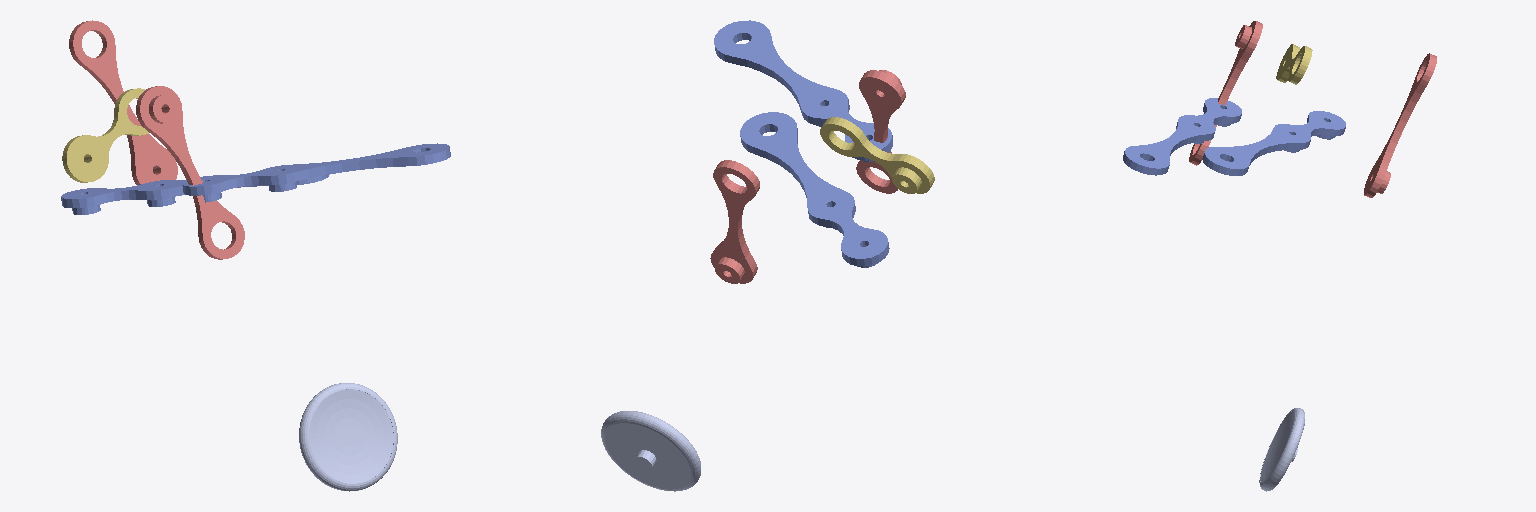
The robot description file, URDF, robot "two_wheel_bot_urdf3":
<?xml version="1.0" encoding="utf-8"?>
<!-- This URDF was automatically created by SolidWorks to URDF Exporter! Originally created by [author] ([email redacted]) 
     Commit Version: 1.6.0-4-g7f85cfe  Build Version: 1.6.7995.38578
     For more information, please see http://wiki.ros.org/sw_urdf_exporter -->
<robot
  name="two_wheel_bot_urdf3">
  <link
    name="base_link">
    <inertial>
      <origin
        xyz="2.14335328662538E-06 0.00342348567006379 0.00381617057001103"
        rpy="0 0 0" />
      <mass
        value="5.2298658429766" />
      <inertia
        ixx="0.025489005982237"
        ixy="5.21058705317494E-07"
        ixz="4.66611982919143E-08"
        iyy="0.0217210539398496"
        iyz="0.00138741262174413"
        izz="0.0300096457219979" />
    </inertial>
    <visual>
      <origin
        xyz="0 0 0"
        rpy="0 0 0" />
      <geometry>
        <mesh
          filename="package://two_wheel_bot_urdf3/meshes/base_link.STL" />
      </geometry>
      <material
        name="">
        <color
          rgba="1 1 1 1" />
      </material>
    </visual>
    <collision>
      <origin
        xyz="0 0 0"
        rpy="0 0 0" />
      <geometry>
        <mesh
          filename="package://two_wheel_bot_urdf3/meshes/base_link.STL" />
      </geometry>
    </collision>
  </link>
  <link
    name="link1L">
    <inertial>
      <origin
        xyz="0.0412490586912434 -2.05379713135079E-17 -0.0022174412485645"
        rpy="0 0 0" />
      <mass
        value="0.0920897104333794" />
      <inertia
        ixx="3.29488166015826E-05"
        ixy="1.60936259978317E-19"
        ixz="-8.42320308387378E-06"
        iyy="0.000327581916070124"
        iyz="9.00189969586249E-21"
        izz="0.00035581745234253" />
    </inertial>
    <visual>
      <origin
        xyz="0 0 0"
        rpy="0 0 0" />
      <geometry>
        <mesh
          filename="package://two_wheel_bot_urdf3/meshes/link1L.STL" />
      </geometry>
      <material
        name="">
        <color
          rgba="0.647058823529412 0.854901960784314 0.533333333333333 1" />
      </material>
    </visual>
    <collision>
      <origin
        xyz="0 0 0"
        rpy="0 0 0" />
      <geometry>
        <mesh
          filename="package://two_wheel_bot_urdf3/meshes/link1L.STL" />
      </geometry>
    </collision>
  </link>
  <joint
    name="joint1L"
    type="revolute">
    <origin
      xyz="-0.105 0 0"
      rpy="1.5708 1.3039 -1.5708" />
    <parent
      link="base_link" />
    <child
      link="link1L" />
    <axis
      xyz="0 0 1" />
    <limit
      lower="0"
      upper="0"
      effort="0"
      velocity="0" />
  </joint>
  <link
    name="link2L">
    <inertial>
      <origin
        xyz="0.0280502819653609 -2.41626931216045E-18 0.00850628524567011"
        rpy="0 0 0" />
      <mass
        value="0.0420641577581413" />
      <inertia
        ixx="7.11107320893793E-06"
        ixy="6.56450534122083E-21"
        ixz="-1.76245119507E-06"
        iyy="6.17851177620997E-05"
        iyz="1.91908843498361E-23"
        izz="6.71261903455831E-05" />
    </inertial>
    <visual>
      <origin
        xyz="0 0 0"
        rpy="0 0 0" />
      <geometry>
        <mesh
          filename="package://two_wheel_bot_urdf3/meshes/link2L.STL" />
      </geometry>
      <material
        name="">
        <color
          rgba="0.854901960784314 0.803921568627451 0.529411764705882 1" />
      </material>
    </visual>
    <collision>
      <origin
        xyz="0 0 0"
        rpy="0 0 0" />
      <geometry>
        <mesh
          filename="package://two_wheel_bot_urdf3/meshes/link2L.STL" />
      </geometry>
    </collision>
  </link>
  <joint
    name="joint2L"
    type="revolute">
    <origin
      xyz="0 0 0"
      rpy="0 0 1.7555" />
    <parent
      link="link1L" />
    <child
      link="link2L" />
    <axis
      xyz="0 0 1" />
    <limit
      lower="0"
      upper="0"
      effort="0"
      velocity="0" />
  </joint>
  <link
    name="link3L">
    <inertial>
      <origin
        xyz="-0.0106862513365372 -0.0571823025304896 -0.00887815058461652"
        rpy="0 0 0" />
      <mass
        value="0.0560073858489449" />
      <inertia
        ixx="0.000218764528266537"
        ixy="-3.93869721743533E-05"
        ixz="-6.71436973865583E-07"
        iyy="1.53648605332619E-05"
        iyz="-3.59287003090283E-06"
        izz="0.000232080271062819" />
    </inertial>
    <visual>
      <origin
        xyz="0 0 0"
        rpy="0 0 0" />
      <geometry>
        <mesh
          filename="package://two_wheel_bot_urdf3/meshes/link3L.STL" />
      </geometry>
      <material
        name="">
        <color
          rgba="0.862745098039216 0.549019607843137 0.545098039215686 1" />
      </material>
    </visual>
    <collision>
      <origin
        xyz="0 0 0"
        rpy="0 0 0" />
      <geometry>
        <mesh
          filename="package://two_wheel_bot_urdf3/meshes/link3L.STL" />
      </geometry>
    </collision>
  </link>
  <joint
    name="joint3L"
    type="revolute">
    <origin
      xyz="0.08 0 0.01"
      rpy="0 0 0" />
    <parent
      link="link2L" />
    <child
      link="link3L" />
    <axis
      xyz="0 0 -1" />
    <limit
      lower="0"
      upper="0"
      effort="0"
      velocity="0" />
  </joint>
  <link
    name="link4L">
    <inertial>
      <origin
        xyz="0.0203083925778099 -0.108670534850872 0.00878355121424736"
        rpy="0 0 0" />
      <mass
        value="0.103303737580571" />
      <inertia
        ixx="0.000773569071719839"
        ixy="0.000141436809479321"
        ixz="-1.62865032492975E-06"
        iyy="4.31701995748469E-05"
        iyz="8.71493404596558E-06"
        izz="0.00081280999513764" />
    </inertial>
    <visual>
      <origin
        xyz="0 0 0"
        rpy="0 0 0" />
      <geometry>
        <mesh
          filename="package://two_wheel_bot_urdf3/meshes/link4L.STL" />
      </geometry>
      <material
        name="">
        <color
          rgba="0.545098039215686 0.615686274509804 0.858823529411765 1" />
      </material>
    </visual>
    <collision>
      <origin
        xyz="0 0 0"
        rpy="0 0 0" />
      <geometry>
        <mesh
          filename="package://two_wheel_bot_urdf3/meshes/link4L.STL" />
      </geometry>
    </collision>
  </link>
  <joint
    name="joint4L"
    type="revolute">
    <origin
      xyz="-0.027555 -0.14745 -0.01"
      rpy="0 0 -1.7555" />
    <parent
      link="link3L" />
    <child
      link="link4L" />
    <axis
      xyz="0 0 1" />
    <limit
      lower="0"
      upper="0"
      effort="0"
      velocity="0" />
  </joint>
  <link
    name="wheelL">
    <inertial>
      <origin
        xyz="-6.10622663543836E-16 7.21644966006352E-16 0.0111042006258997"
        rpy="0 0 0" />
      <mass
        value="0.126219698224412" />
      <inertia
        ixx="0.000106473363883809"
        ixy="6.7762635780344E-21"
        ixz="-2.48860382094019E-20"
        iyy="0.000106473363883809"
        iyz="-5.86012409769799E-21"
        izz="0.000208789081658998" />
    </inertial>
    <visual>
      <origin
        xyz="0 0 0"
        rpy="0 0 0" />
      <geometry>
        <mesh
          filename="package://two_wheel_bot_urdf3/meshes/wheelL.STL" />
      </geometry>
      <material
        name="">
        <color
          rgba="0.792156862745098 0.819607843137255 0.933333333333333 1" />
      </material>
    </visual>
    <collision>
      <origin
        xyz="0 0 0"
        rpy="0 0 0" />
      <geometry>
        <mesh
          filename="package://two_wheel_bot_urdf3/meshes/wheelL.STL" />
      </geometry>
    </collision>
  </link>
  <joint
    name="wheeljointL"
    type="continuous">
    <origin
      xyz="0.042251 -0.22609 0.01"
      rpy="0 0 -1.386" />
    <parent
      link="link4L" />
    <child
      link="wheelL" />
    <axis
      xyz="0 0 1" />
  </joint>
  <link
    name="link4_1L">
    <inertial>
      <origin
        xyz="0.00561238240027584 -0.030031948362666 0.00878355121424738"
        rpy="0 0 0" />
      <mass
        value="0.103303737580571" />
      <inertia
        ixx="0.000773569071719824"
        ixy="0.000141436809479358"
        ixz="-1.62865032493019E-06"
        iyy="4.3170199574861E-05"
        iyz="8.7149340459655E-06"
        izz="0.00081280999513764" />
    </inertial>
    <visual>
      <origin
        xyz="0 0 0"
        rpy="0 0 0" />
      <geometry>
        <mesh
          filename="package://two_wheel_bot_urdf3/meshes/link4_1L.STL" />
      </geometry>
      <material
        name="">
        <color
          rgba="0.545098039215686 0.615686274509804 0.858823529411765 1" />
      </material>
    </visual>
    <collision>
      <origin
        xyz="0 0 0"
        rpy="0 0 0" />
      <geometry>
        <mesh
          filename="package://two_wheel_bot_urdf3/meshes/link4_1L.STL" />
      </geometry>
    </collision>
  </link>
  <joint
    name="joint4_1L"
    type="revolute">
    <origin
      xyz="0.15 0 0"
      rpy="0 0 0" />
    <parent
      link="link1L" />
    <child
      link="link4_1L" />
    <axis
      xyz="0 0 1" />
    <limit
      lower="0"
      upper="0"
      effort="0"
      velocity="0" />
  </joint>
  <link
    name="link1R">
    <inertial>
      <origin
        xyz="0.0412490586912434 -2.86247299409987E-17 -0.0022174412485645"
        rpy="0 0 0" />
      <mass
        value="0.0920897104333794" />
      <inertia
        ixx="3.29488166015826E-05"
        ixy="1.575481281893E-19"
        ixz="-8.4232030838738E-06"
        iyy="0.000327581916070124"
        iyz="4.00311882040484E-21"
        izz="0.00035581745234253" />
    </inertial>
    <visual>
      <origin
        xyz="0 0 0"
        rpy="0 0 0" />
      <geometry>
        <mesh
          filename="package://two_wheel_bot_urdf3/meshes/link1R.STL" />
      </geometry>
      <material
        name="">
        <color
          rgba="0.647058823529412 0.854901960784314 0.533333333333333 1" />
      </material>
    </visual>
    <collision>
      <origin
        xyz="0 0 0"
        rpy="0 0 0" />
      <geometry>
        <mesh
          filename="package://two_wheel_bot_urdf3/meshes/link1R.STL" />
      </geometry>
    </collision>
  </link>
  <joint
    name="joint1R"
    type="revolute">
    <origin
      xyz="0.105 0 0"
      rpy="-1.5708 1.3039 -1.5708" />
    <parent
      link="base_link" />
    <child
      link="link1R" />
    <axis
      xyz="0 0 1" />
    <limit
      lower="0"
      upper="0"
      effort="0"
      velocity="0" />
  </joint>
  <link
    name="link2R">
    <inertial>
      <origin
        xyz="0.0280502819653609 -8.26826764443447E-19 0.0085062852456701"
        rpy="0 0 0" />
      <mass
        value="0.0420641577581413" />
      <inertia
        ixx="7.11107320893793E-06"
        ixy="2.11758236813575E-22"
        ixz="-1.76245119506999E-06"
        iyy="6.17851177620997E-05"
        iyz="3.30824605547417E-22"
        izz="6.71261903455832E-05" />
    </inertial>
    <visual>
      <origin
        xyz="0 0 0"
        rpy="0 0 0" />
      <geometry>
        <mesh
          filename="package://two_wheel_bot_urdf3/meshes/link2R.STL" />
      </geometry>
      <material
        name="">
        <color
          rgba="0.854901960784314 0.803921568627451 0.529411764705882 1" />
      </material>
    </visual>
    <collision>
      <origin
        xyz="0 0 0"
        rpy="0 0 0" />
      <geometry>
        <mesh
          filename="package://two_wheel_bot_urdf3/meshes/link2R.STL" />
      </geometry>
    </collision>
  </link>
  <joint
    name="joint2R"
    type="revolute">
    <origin
      xyz="0 0 0"
      rpy="0 0 -1.7555" />
    <parent
      link="link1R" />
    <child
      link="link2R" />
    <axis
      xyz="0 0 1" />
    <limit
      lower="0"
      upper="0"
      effort="0"
      velocity="0" />
  </joint>
  <link
    name="link3R">
    <inertial>
      <origin
        xyz="-0.0106862513365432 0.0571823025304968 -0.00887815058461655"
        rpy="0 0 0" />
      <mass
        value="0.0560073858489449" />
      <inertia
        ixx="0.000218764528266529"
        ixy="3.9386972174374E-05"
        ixz="-6.71436973865969E-07"
        iyy="1.53648605332699E-05"
        iyz="3.59287003090279E-06"
        izz="0.000232080271062819" />
    </inertial>
    <visual>
      <origin
        xyz="0 0 0"
        rpy="0 0 0" />
      <geometry>
        <mesh
          filename="package://two_wheel_bot_urdf3/meshes/link3R.STL" />
      </geometry>
      <material
        name="">
        <color
          rgba="0.862745098039216 0.549019607843137 0.545098039215686 1" />
      </material>
    </visual>
    <collision>
      <origin
        xyz="0 0 0"
        rpy="0 0 0" />
      <geometry>
        <mesh
          filename="package://two_wheel_bot_urdf3/meshes/link3R.STL" />
      </geometry>
    </collision>
  </link>
  <joint
    name="joint3R"
    type="revolute">
    <origin
      xyz="0.08 0 0.01"
      rpy="0 0 0" />
    <parent
      link="link2R" />
    <child
      link="link3R" />
    <axis
      xyz="0 0 -1" />
    <limit
      lower="0"
      upper="0"
      effort="0"
      velocity="0" />
  </joint>
  <link
    name="link4R">
    <inertial>
      <origin
        xyz="0.0203083925778119 0.108670534850862 0.0087835512142474"
        rpy="0 0 0" />
      <mass
        value="0.103303737580571" />
      <inertia
        ixx="0.00077356907171982"
        ixy="-0.000141436809479367"
        ixz="-1.62865032493035E-06"
        iyy="4.31701995748645E-05"
        iyz="-8.71493404596562E-06"
        izz="0.00081280999513764" />
    </inertial>
    <visual>
      <origin
        xyz="0 0 0"
        rpy="0 0 0" />
      <geometry>
        <mesh
          filename="package://two_wheel_bot_urdf3/meshes/link4R.STL" />
      </geometry>
      <material
        name="">
        <color
          rgba="0.545098039215686 0.615686274509804 0.858823529411765 1" />
      </material>
    </visual>
    <collision>
      <origin
        xyz="0 0 0"
        rpy="0 0 0" />
      <geometry>
        <mesh
          filename="package://two_wheel_bot_urdf3/meshes/link4R.STL" />
      </geometry>
    </collision>
  </link>
  <joint
    name="joint4R"
    type="revolute">
    <origin
      xyz="-0.027555 0.14745 -0.01"
      rpy="0 0 1.7555" />
    <parent
      link="link3R" />
    <child
      link="link4R" />
    <axis
      xyz="0 0 1" />
    <limit
      lower="0"
      upper="0"
      effort="0"
      velocity="0" />
  </joint>
  <link
    name="wheelR">
    <inertial>
      <origin
        xyz="7.49400541621981E-16 8.88178419700125E-16 0.0111042006258996"
        rpy="0 0 0" />
      <mass
        value="0.126219698224412" />
      <inertia
        ixx="0.000106473363883807"
        ixy="0"
        ixz="2.50484313697451E-20"
        iyy="0.000106473363883807"
        iyz="2.64825220519381E-21"
        izz="0.000208789081658998" />
    </inertial>
    <visual>
      <origin
        xyz="0 0 0"
        rpy="0 0 0" />
      <geometry>
        <mesh
          filename="package://two_wheel_bot_urdf3/meshes/wheelR.STL" />
      </geometry>
      <material
        name="">
        <color
          rgba="0.792156862745098 0.819607843137255 0.933333333333333 1" />
      </material>
    </visual>
    <collision>
      <origin
        xyz="0 0 0"
        rpy="0 0 0" />
      <geometry>
        <mesh
          filename="package://two_wheel_bot_urdf3/meshes/wheelR.STL" />
      </geometry>
    </collision>
  </link>
  <joint
    name="wheeljointR"
    type="continuous">
    <origin
      xyz="0.042251 0.22609 0.01"
      rpy="0 0 1.386" />
    <parent
      link="link4R" />
    <child
      link="wheelR" />
    <axis
      xyz="0 0 1" />
  </joint>
  <link
    name="link4_1R">
    <inertial>
      <origin
        xyz="0.00561238240027687 0.0300319483626608 0.00878355121424738"
        rpy="0 0 0" />
      <mass
        value="0.103303737580571" />
      <inertia
        ixx="0.000773569071719815"
        ixy="-0.000141436809479382"
        ixz="-1.62865032493053E-06"
        iyy="4.31701995748703E-05"
        iyz="-8.71493404596559E-06"
        izz="0.00081280999513764" />
    </inertial>
    <visual>
      <origin
        xyz="0 0 0"
        rpy="0 0 0" />
      <geometry>
        <mesh
          filename="package://two_wheel_bot_urdf3/meshes/link4_1R.STL" />
      </geometry>
      <material
        name="">
        <color
          rgba="0.545098039215686 0.615686274509804 0.858823529411765 1" />
      </material>
    </visual>
    <collision>
      <origin
        xyz="0 0 0"
        rpy="0 0 0" />
      <geometry>
        <mesh
          filename="package://two_wheel_bot_urdf3/meshes/link4_1R.STL" />
      </geometry>
    </collision>
  </link>
  <joint
    name="joint4_1R"
    type="revolute">
    <origin
      xyz="0.15 0 0"
      rpy="0 0 0" />
    <parent
      link="link1R" />
    <child
      link="link4_1R" />
    <axis
      xyz="0 0 1" />
    <limit
      lower="0"
      upper="0"
      effort="0"
      velocity="0" />
  </joint>
</robot>

--- What the picture shows (computed from the rendered views, not written in the file) ---
The picture shows the robot from 3 angles, left to right: view 1: azimuth 30°, elevation 25°; view 2: azimuth 150°, elevation 25°; view 3: azimuth 270°, elevation 25°; orthographic projection.
Robot: two_wheel_bot_urdf3 — 13 links, 12 joints (10 revolute, 2 continuous); root link base_link; default pose: all joints at 0.
Visible links, largest first — view 1: wheelR, link3L, link4R, link3R, link2L, link4_1R; view 2: link4_1R, wheelR, link4R, link3R, link2L, link3L; view 3: link4_1R, link4R, link3R, wheelR, link3L, link2L.
Link boxes in pixels (<box>): wheelR: <box>299,383,397,491</box>; link3L: <box>136,86,244,259</box>; link4R: <box>182,143,450,202</box>; link3R: <box>69,20,177,184</box>; link2L: <box>62,88,148,182</box>; link4_1R: <box>61,163,328,214</box>; link4_1R: <box>740,112,889,267</box>; wheelR: <box>601,411,700,491</box>; link4R: <box>714,20,892,161</box>; link3R: <box>710,160,759,283</box>; link2L: <box>820,117,934,193</box>; link3L: <box>856,70,905,193</box>; link4_1R: <box>1202,111,1345,175</box>; link4R: <box>1123,98,1241,175</box>; link3R: <box>1364,53,1436,197</box>; wheelR: <box>1259,408,1304,491</box>; link3L: <box>1189,21,1262,165</box>; link2L: <box>1276,44,1312,84</box>.
Bounding box of the posed robot: 0.3978 × 0.3998 × 0.5326 m (x, y, z).
Meshes: 13 distinct files referenced, 6 mesh visuals loaded (6 binary STL); not drawn: 7 (reference not matched to a file when rendering).